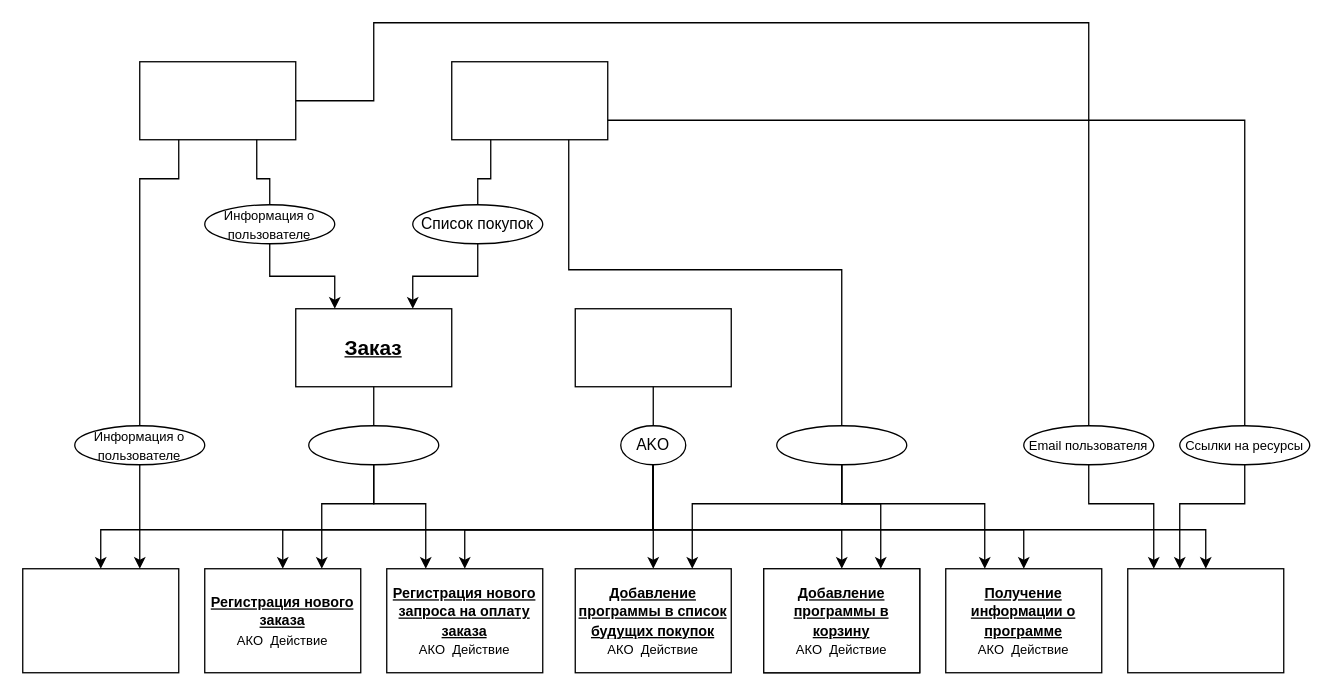
Some shapes in this 1333 by 696 pixel diagram are drawn without their labels. The box of each missing label's shape, as (x1, y1, x2, y2) in pixels:
Действие: (574, 307, 731, 387)
Информация о заказе: (307, 424, 439, 465)
Информация о программе: (775, 424, 907, 465)
Отправка письма по email АКО Действие: (1126, 567, 1284, 673)
Пользователь: (138, 60, 296, 140)
Регистрация нового пользователя АКО Действие: (21, 567, 179, 673)
Сервер магазина: (450, 60, 608, 140)
